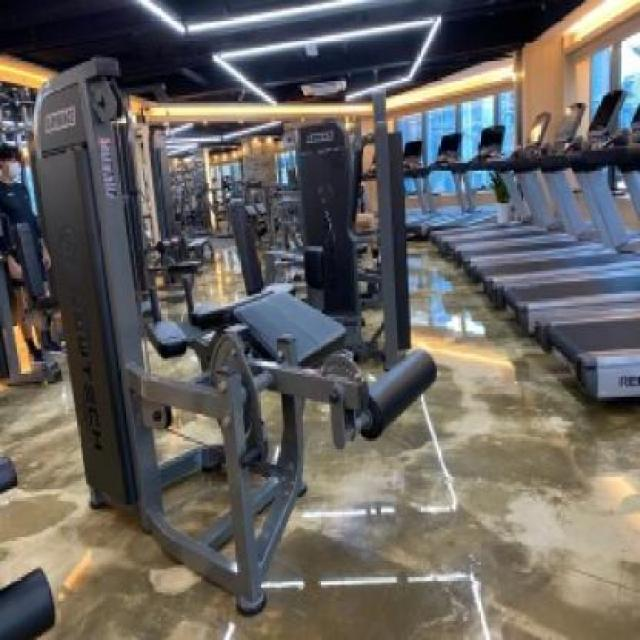reg curl machine: (31, 78, 440, 617)
